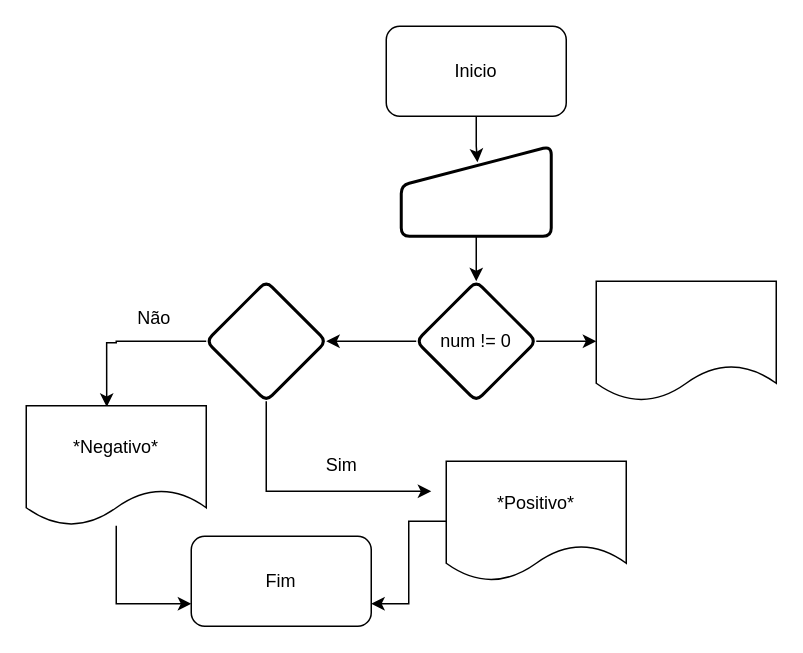
Some shapes in this 803 by 653 pixel diagram are drawn without their labels. The centre of each missing label's shape, as x and y in pixels:
* o número precisa ser diferente de 0, volte para o inicio*: point 685,340
num: point 475,190
num > 0: point 265,340
